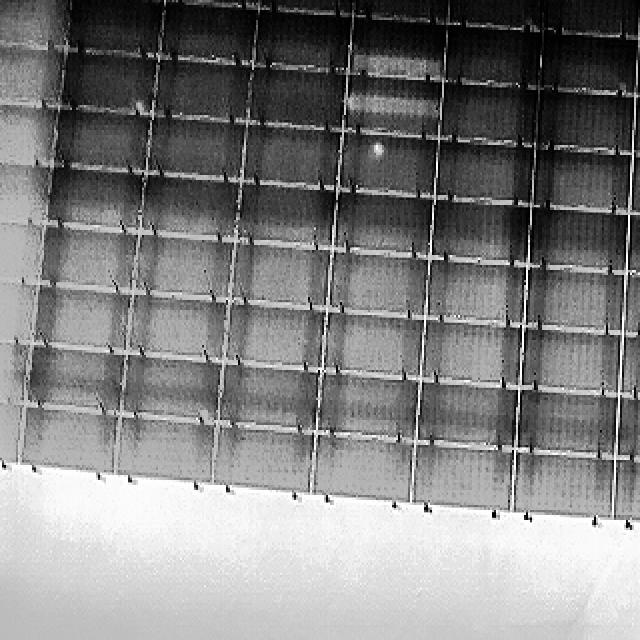Hotspots: (370, 138, 392, 162), (414, 61, 439, 80), (609, 79, 636, 96), (301, 237, 327, 254), (129, 94, 152, 112)
PV-modules: (308, 432, 413, 507), (314, 368, 419, 443), (218, 359, 322, 434), (211, 424, 315, 499), (414, 379, 520, 452), (511, 447, 616, 519), (513, 386, 618, 458), (407, 439, 513, 510), (15, 409, 119, 481), (318, 312, 424, 382), (110, 411, 216, 481), (116, 353, 219, 425), (528, 147, 632, 218), (223, 302, 328, 372), (516, 322, 621, 392), (526, 204, 627, 276), (228, 240, 331, 309), (324, 249, 426, 318), (429, 197, 532, 265), (35, 225, 136, 294), (420, 318, 520, 387), (124, 296, 228, 362), (522, 268, 624, 335), (434, 140, 536, 207), (336, 128, 436, 196), (331, 192, 431, 259), (535, 34, 635, 101), (424, 258, 525, 324), (142, 174, 243, 240), (236, 184, 338, 249), (438, 83, 538, 149), (532, 89, 633, 154), (31, 287, 130, 353), (244, 63, 344, 128), (25, 346, 123, 412), (146, 116, 247, 180), (339, 74, 439, 138), (44, 168, 144, 232), (349, 19, 447, 84), (240, 124, 341, 187), (56, 49, 153, 114), (133, 237, 233, 300), (49, 108, 148, 171), (250, 10, 350, 72), (161, 4, 257, 67), (153, 56, 251, 117), (442, 28, 540, 89), (68, 0, 162, 58), (0, 47, 61, 107), (534, 0, 638, 35), (0, 104, 52, 167), (0, 0, 66, 48), (0, 163, 48, 226), (446, 0, 542, 28), (0, 223, 42, 287), (608, 458, 640, 528), (0, 278, 34, 342), (610, 393, 640, 465), (354, 0, 450, 22), (0, 344, 25, 427), (1, 399, 23, 471), (618, 332, 640, 402), (254, 0, 354, 15), (620, 270, 640, 338), (628, 155, 640, 223), (628, 212, 640, 280), (162, 0, 258, 8), (632, 95, 640, 163), (638, 38, 640, 102), (638, 0, 640, 45)
